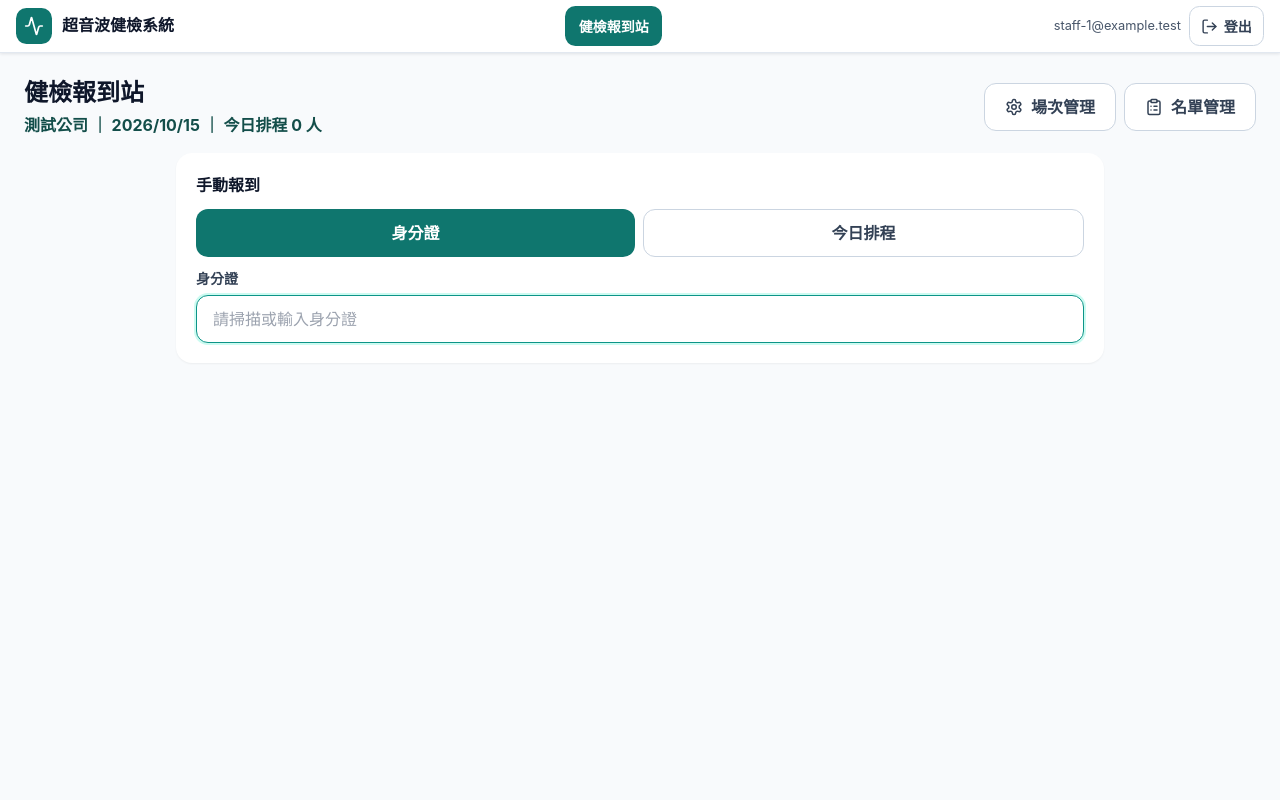
Scenario: App 僅讓報到站管理權限操作公開看板設定 › 舊帳號延遲啟用回應不得污染新帳號重新開啟的管理設定
Click the button "場次管理" at (1050, 107), box [984, 83, 1116, 131]
(page scrolled)
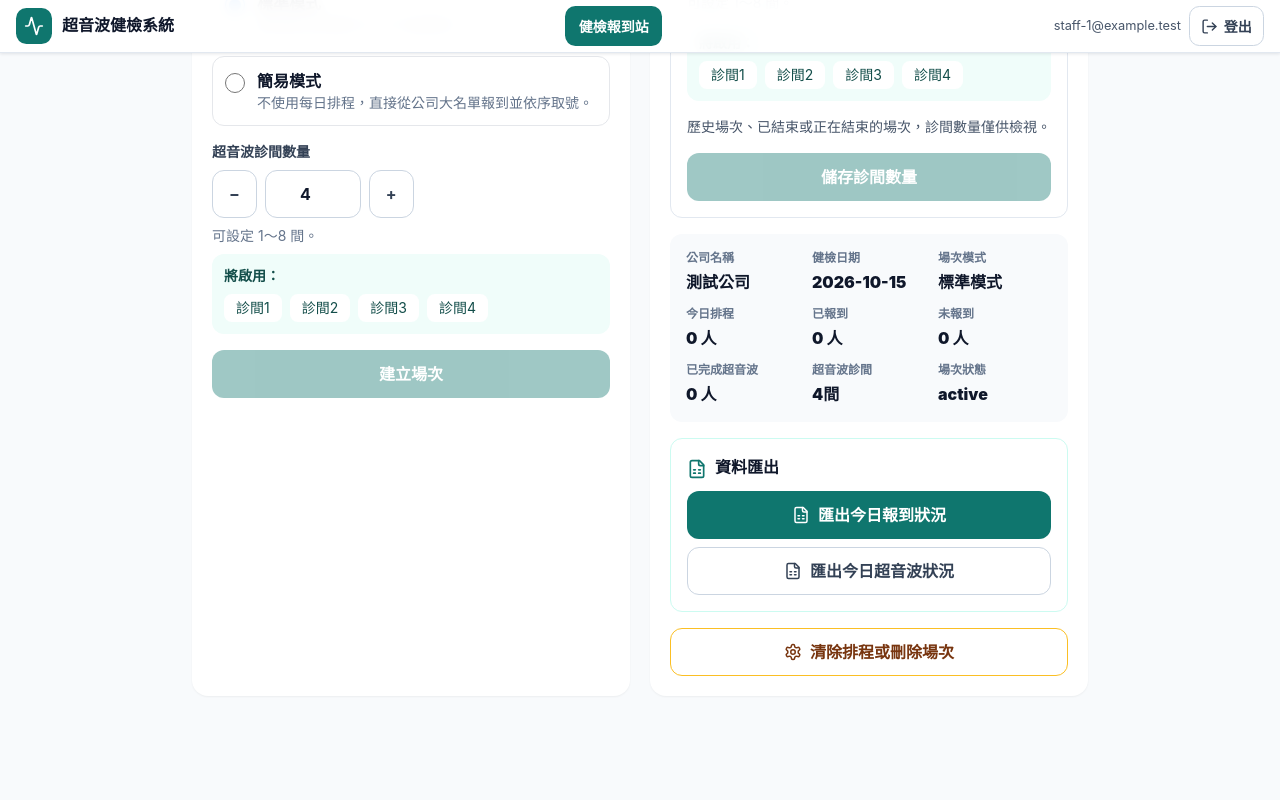
Click the button "清除排程或刪除場次" at (869, 652), box [670, 628, 1068, 676]
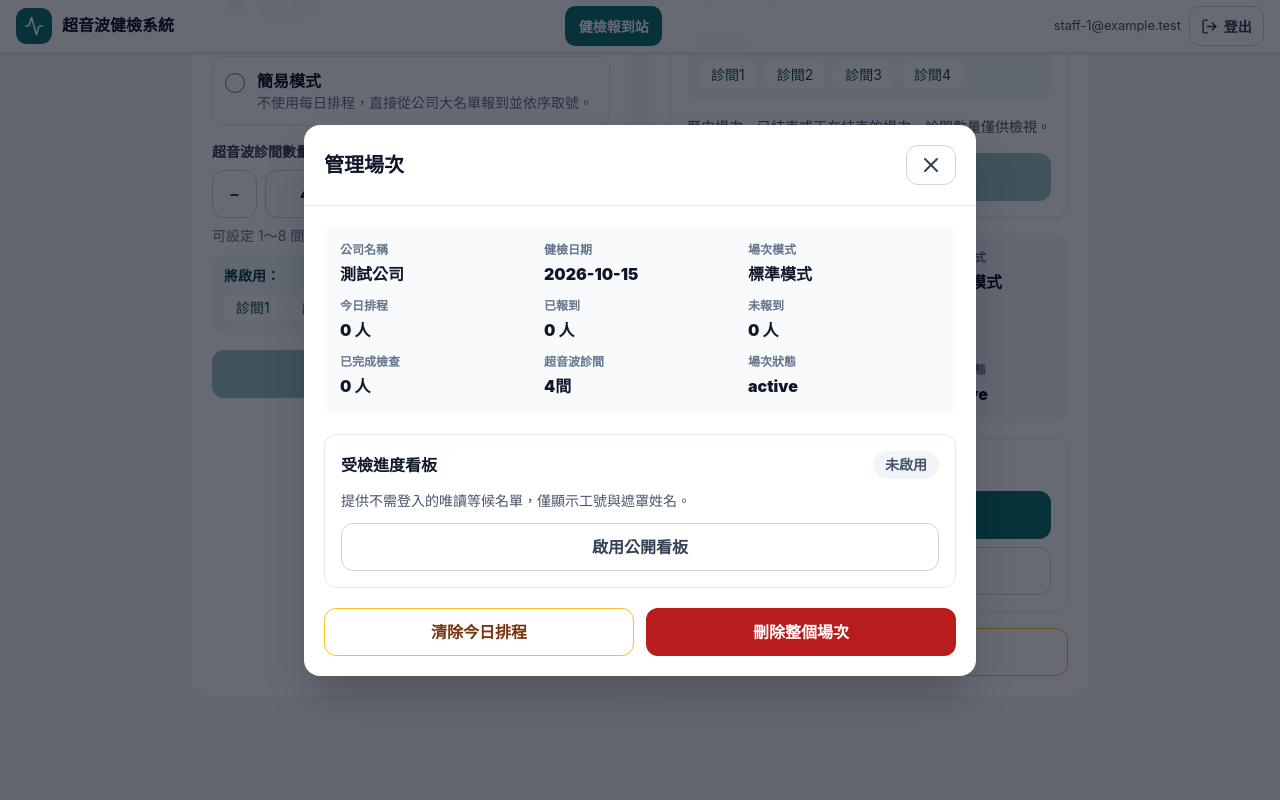
Click the button "啟用公開看板" at (640, 546), box [341, 522, 939, 570]
(page scrolled)
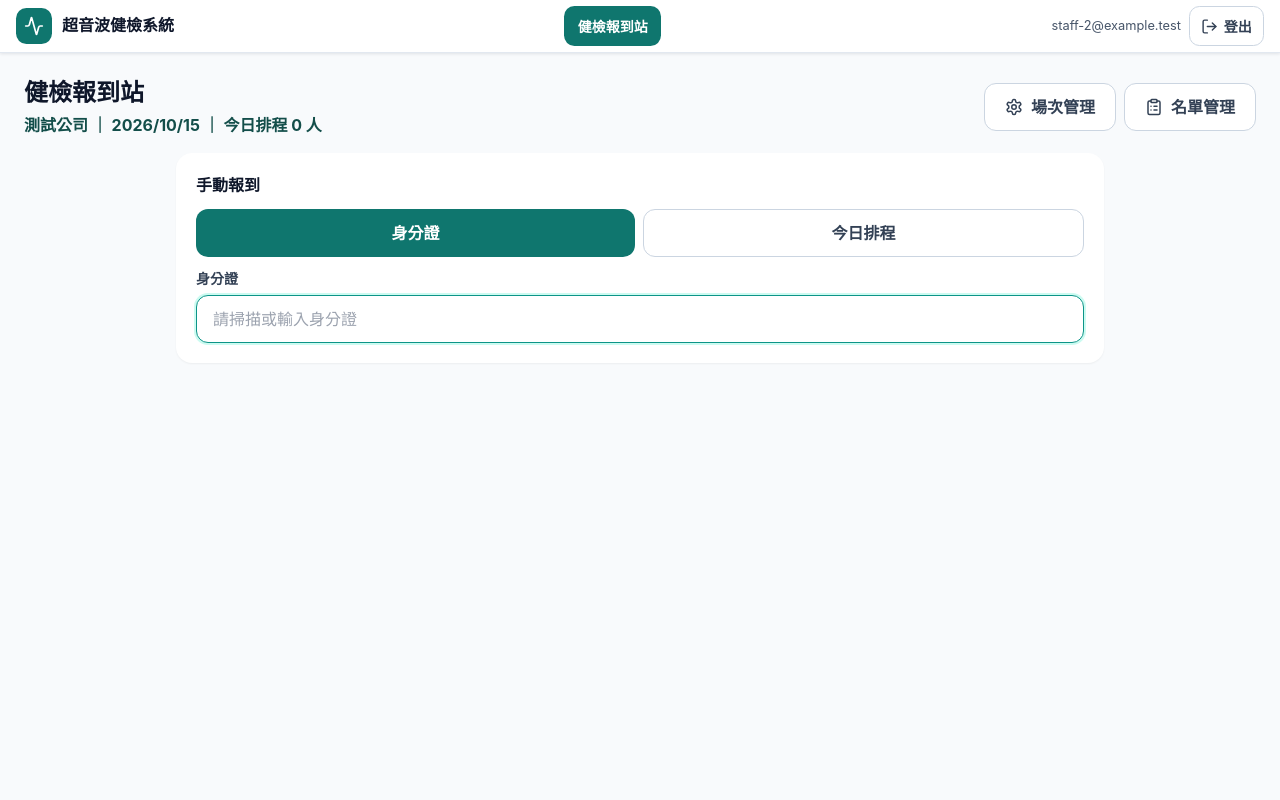
Expected: the dialog is gone
Click the button "場次管理" at (1050, 107), box [984, 83, 1116, 131]
(page scrolled)
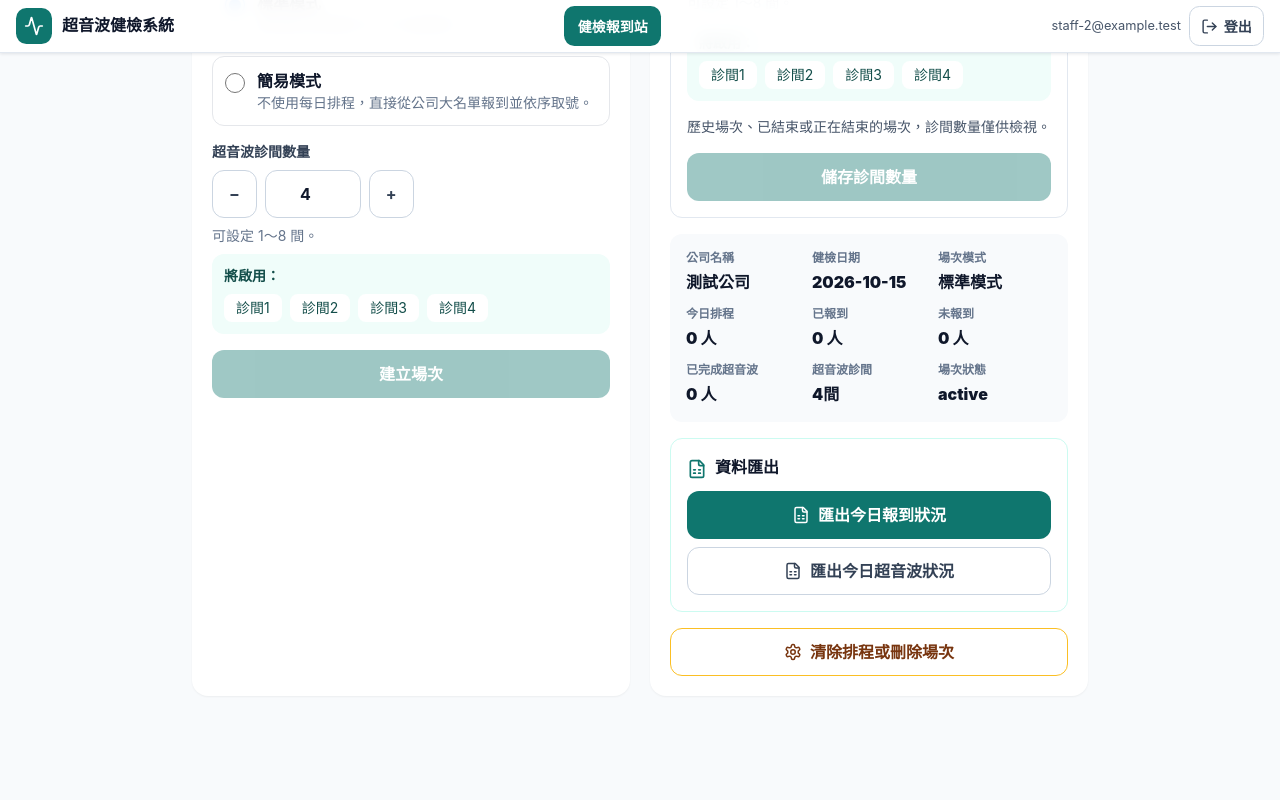
Click the button "清除排程或刪除場次" at (869, 652), box [670, 628, 1068, 676]
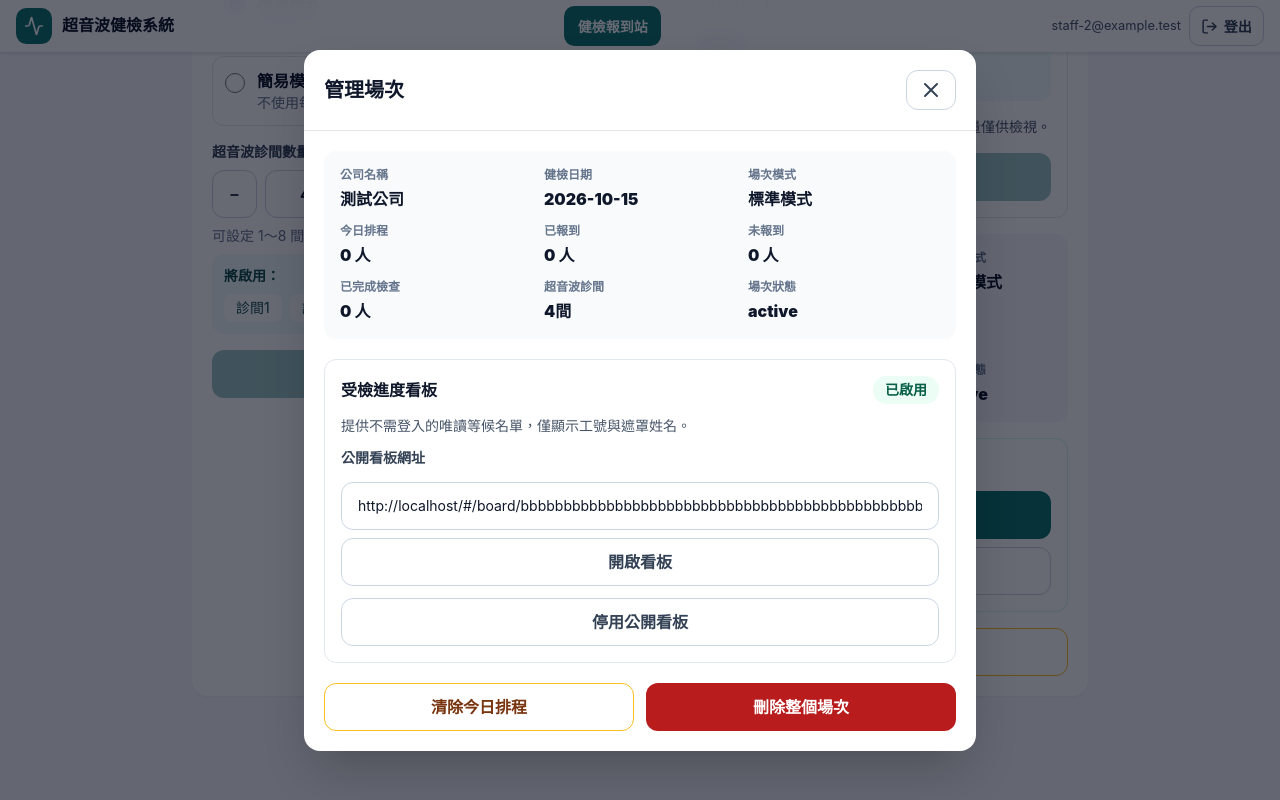
Expected: the button "停用公開看板" is enabled, [341, 598, 939, 646]
